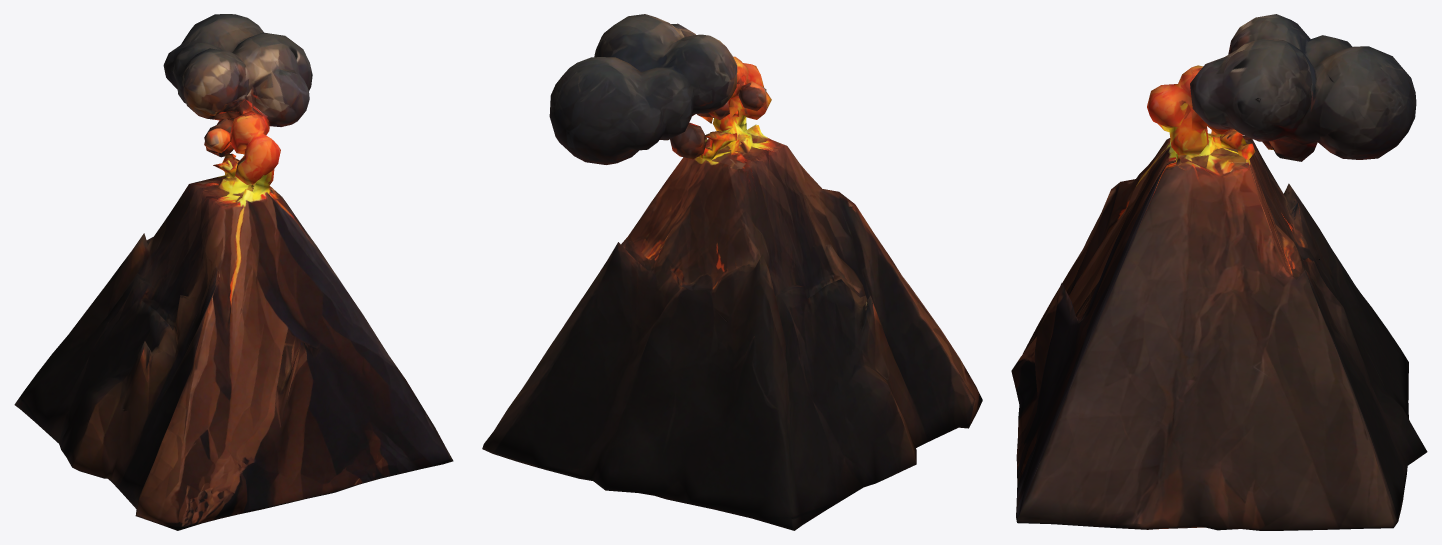
Rendered from Fire_Volcano.fbx.
3 renders of one model, left to right at view 1: azimuth 30°, elevation 25°; view 2: azimuth 150°, elevation 25°; view 3: azimuth 270°, elevation 25°, orthographic. The views are drawn at different scales.
Parts seen in each view (by area): view 1: Mesh1_Mesh1.001; view 2: Mesh1_Mesh1.001; view 3: Mesh1_Mesh1.001.
Part boxes in pixels (box(x1,y1,x2,y2)): Mesh1_Mesh1.001: box(14, 14, 453, 530); Mesh1_Mesh1.001: box(482, 14, 982, 530); Mesh1_Mesh1.001: box(1011, 14, 1427, 530).
Bounding box in the file's own units: 17.75 × 20 × 17.23.
1 material, 1 textured.
